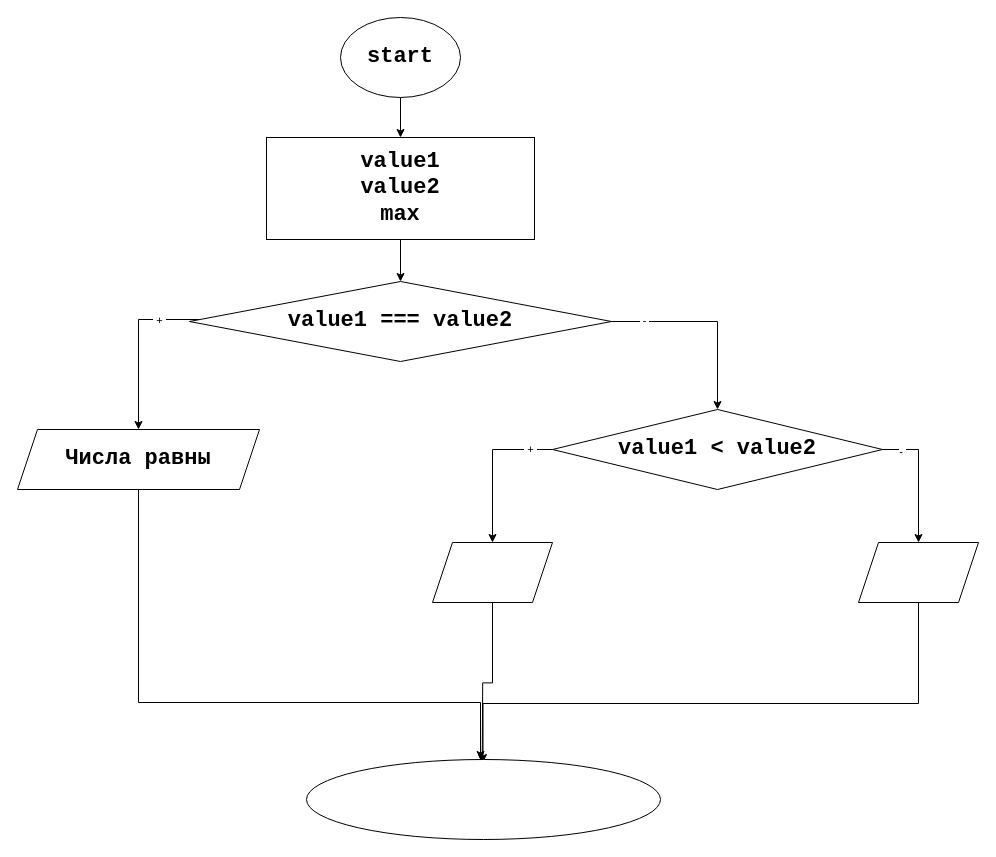
The diagram is 996 pixels wide and 857 high, and some of its shapes have lost their labels. The shapes that lost their labels are listed below. From the top down, each one's box as (x1, y1, x2, y2) in pixels, then its label:
(432, 542, 552, 602): value2
(858, 542, 978, 602): value1
(306, 758, 660, 840): end
